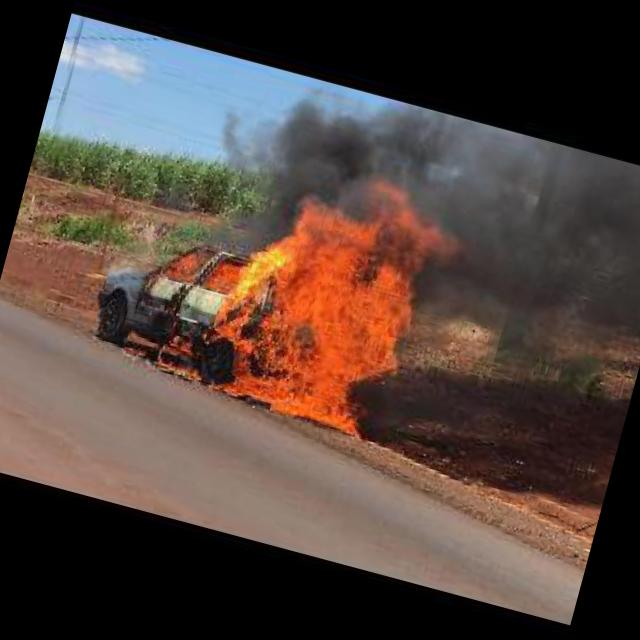fire: (118, 124, 469, 448)
smoke: (276, 74, 552, 257), (179, 56, 323, 252)
